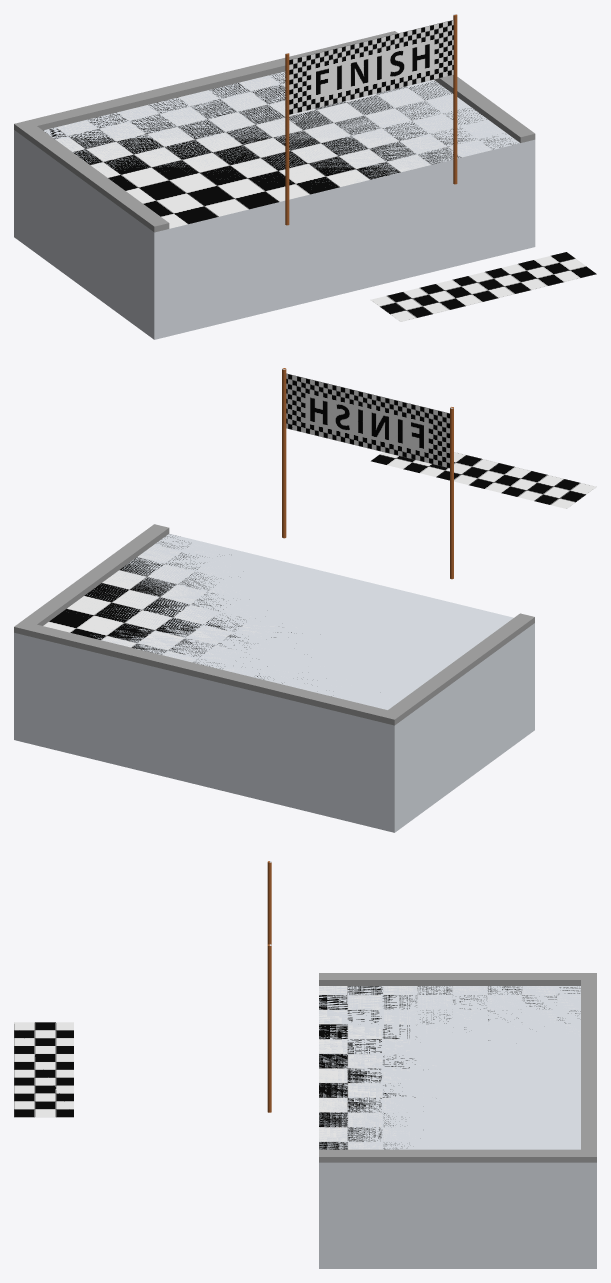
The model's file is Finish Point 1.fbx.
3 views of the same model, one above another, from view 1: azimuth 30°, elevation 25°; view 2: azimuth 150°, elevation 25°; view 3: azimuth 270°, elevation 25° (orthographic).
Visible parts, largest first — view 1: Finish_Stand_checker, Finish_Stand, Flag_Rod, Finish_line, Flag, Flag_Rod_1; view 2: Finish_Stand, Finish_Stand_checker, Flag_Rod, Finish_line, Flag_Rod_1, Flag; view 3: Finish_Stand, Finish_Stand_checker, Finish_line, Flag_Rod_1.
Boxes of the visible parts, x1,y1,x2,y2 form: Finish_Stand_checker: [16, 34, 535, 339]; Finish_Stand: [14, 31, 535, 339]; Flag_Rod: [289, 20, 453, 114]; Finish_line: [370, 252, 596, 321]; Flag: [285, 53, 289, 225]; Flag_Rod_1: [453, 14, 457, 184]; Finish_Stand: [14, 526, 534, 832]; Finish_Stand_checker: [14, 524, 534, 831]; Flag_Rod: [286, 373, 449, 468]; Finish_line: [371, 452, 596, 508]; Flag_Rod_1: [282, 368, 286, 538]; Flag: [450, 407, 453, 579]; Finish_Stand: [319, 973, 596, 1268]; Finish_Stand_checker: [319, 973, 596, 1268]; Finish_line: [14, 1022, 73, 1117]; Flag_Rod_1: [267, 944, 271, 1112].
Size of the model in its own units: 930 by 649 by 1246.
